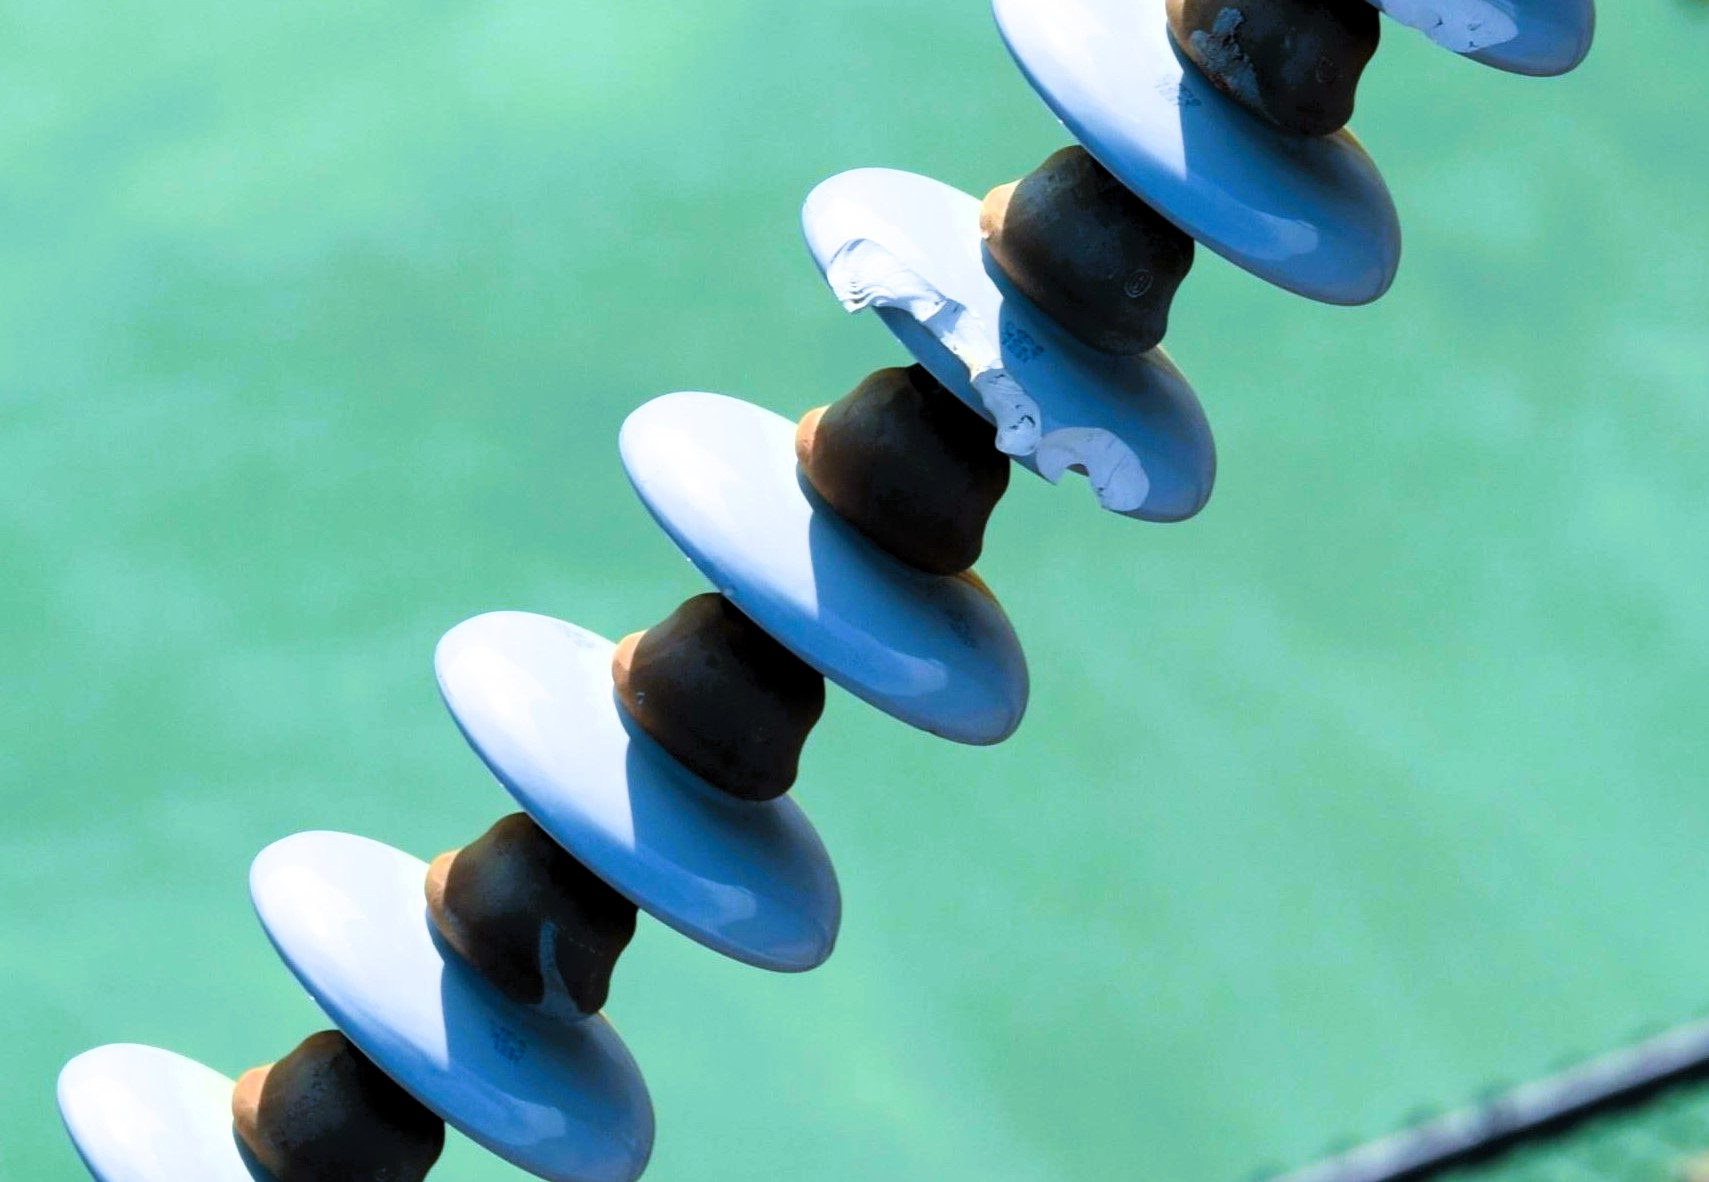insulator breakage: (769, 149, 1229, 526)
